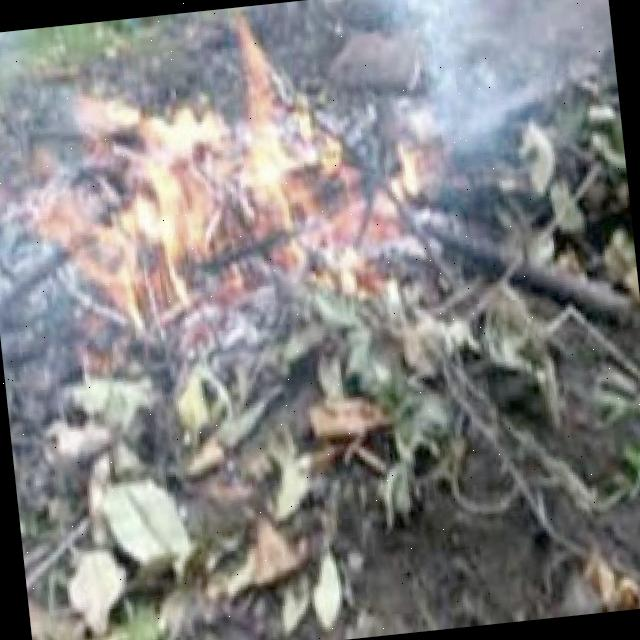fire: (27, 29, 420, 314)
